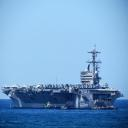Portanaves: (3, 46, 126, 113)
